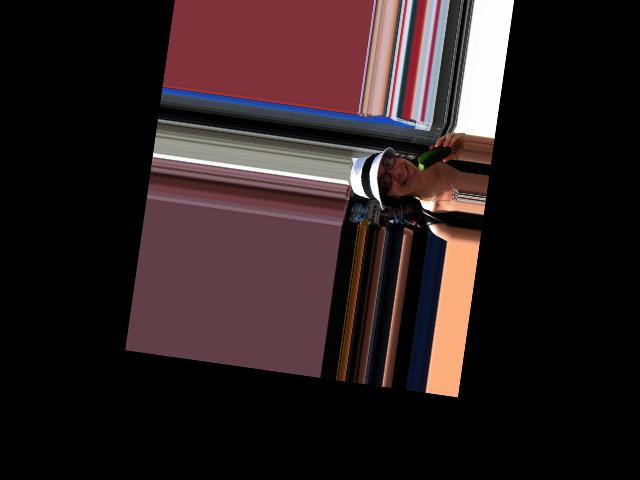cucumber: (416, 141, 452, 174)
